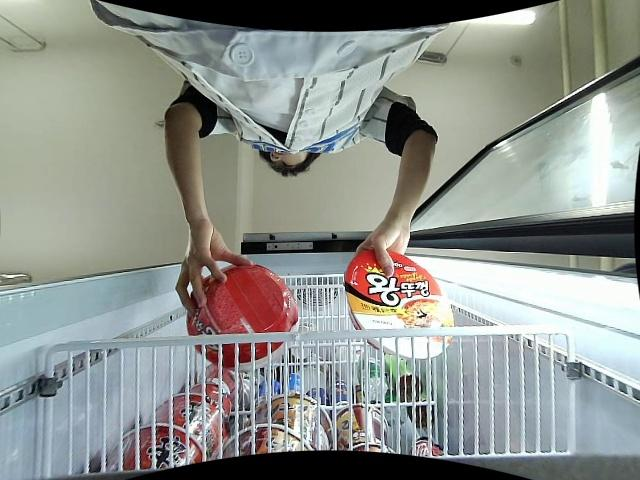00_hand: (175, 227, 253, 316), (355, 220, 411, 280)
10_wangTtukkeong: (345, 247, 455, 359), (187, 261, 300, 369)
